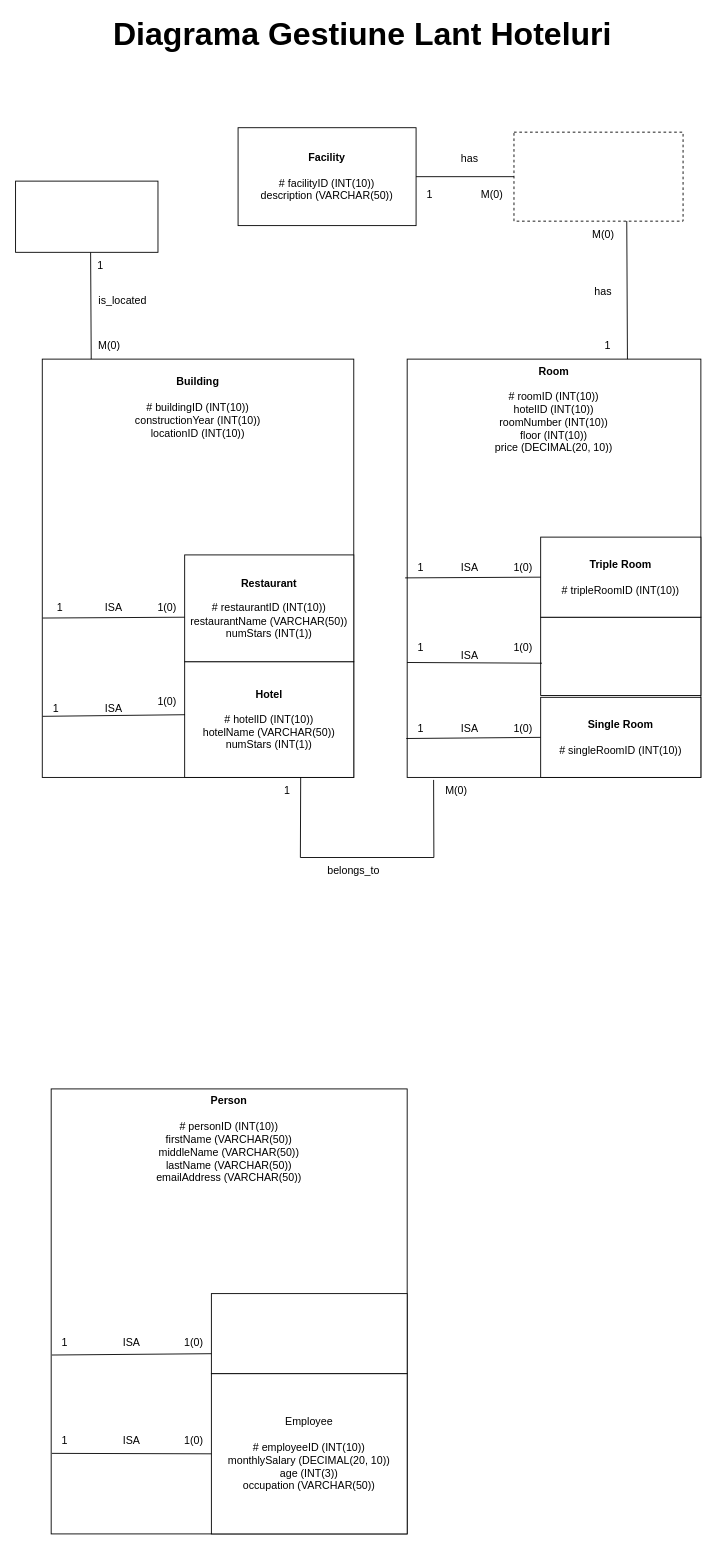
Image size: 716x1549. Some labels were removed from this diagram. Each missing label, with the centre of its shape:
"Client # clientID (INT(10))" belongs at [308,1333].
"Double Room # doubleRoomID (INT(10))" belongs at [620,656].
"Location # locationID (INT(10)) address (VARCHAR(50))" belongs at [86,216].
"RoomFacility # roomID (INT(10)) # facilityID (INT(10))" belongs at [598,176].
